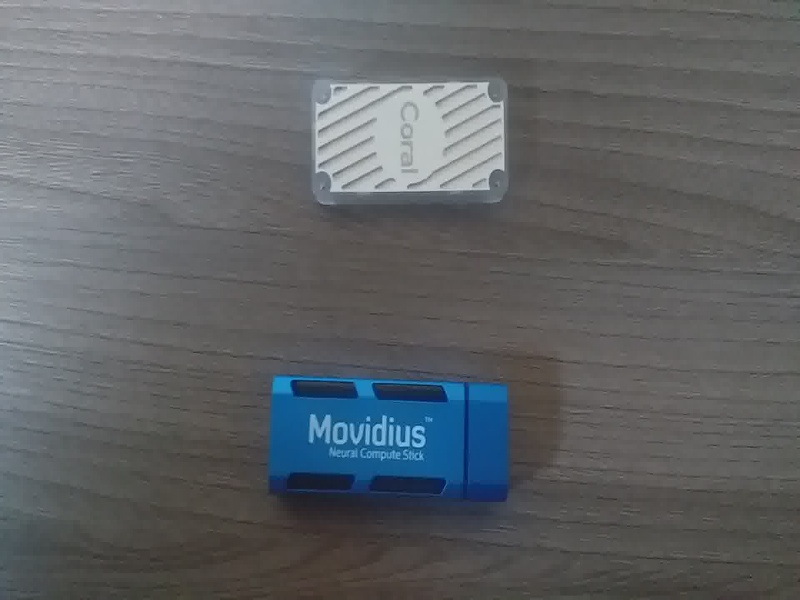coral: (299, 69, 529, 223)
movidius: (257, 368, 519, 515)
